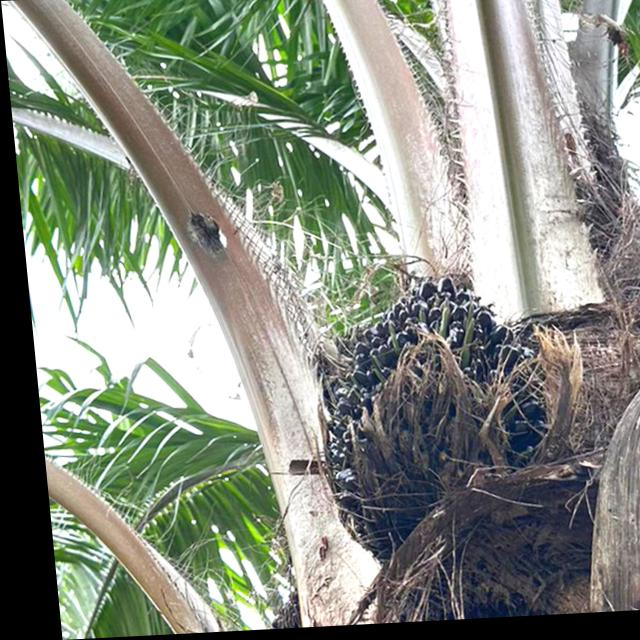unripe: (283, 263, 558, 579)
